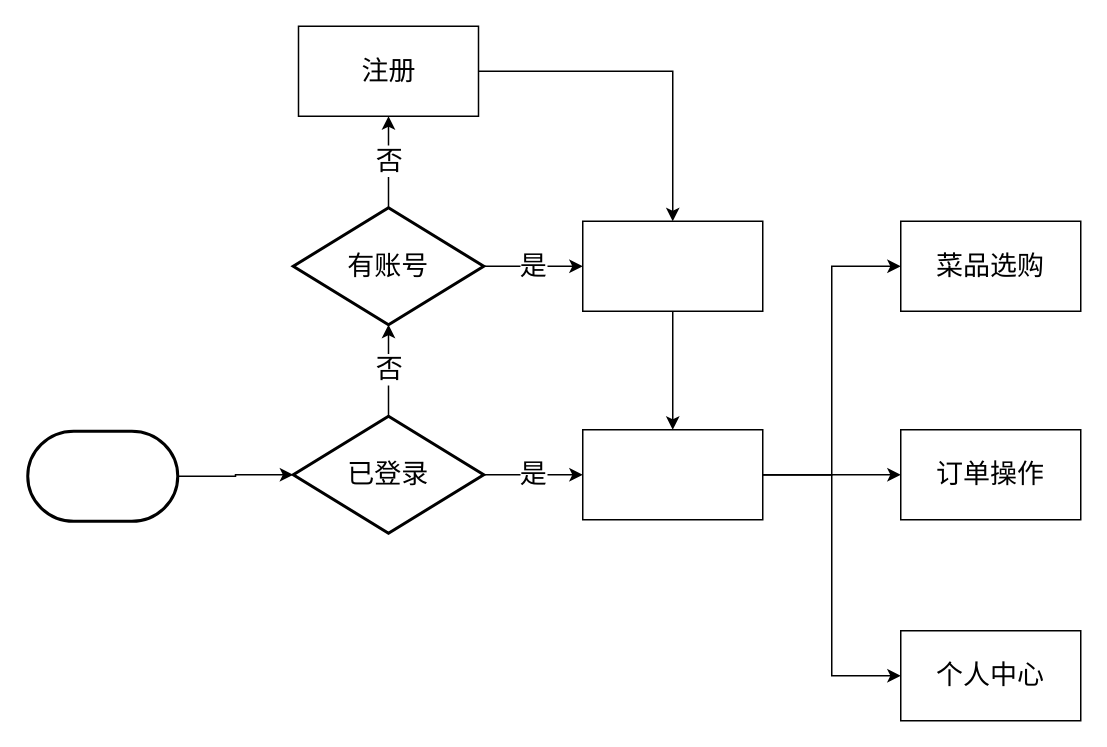
The diagram is 1107 pixels wide and 747 high, and some of its shapes have lost their labels. Each missing label, with the centre of its shape:
用户端: point 102,475
用户面板: point 672,474
登录: point 672,265
